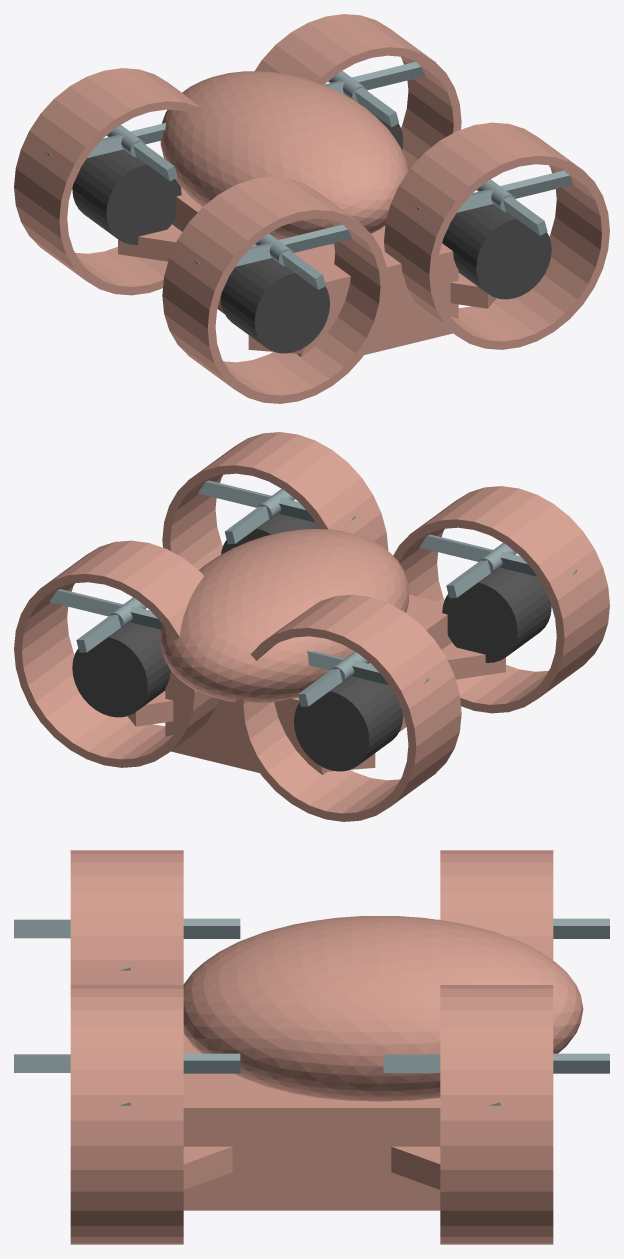
File: Mobula 6.glb
3 renders of one model, top to bottom at view 1: azimuth 30°, elevation 25°; view 2: azimuth 150°, elevation 25°; view 3: azimuth 270°, elevation 25°, orthographic. The views are drawn at different scales.
Parts seen in each view (by area): view 1: canopy, duct_0, duct_2, duct_3, duct_1, frame_body, motor_2, motor_0, motor_3, prop_2, prop_0, prop_1 (+3 smaller); view 2: canopy, duct_3, duct_1, duct_2, duct_0, motor_3, motor_2, motor_1, frame_body, prop_2, prop_0, prop_1 (+4 smaller); view 3: canopy, duct_0, duct_1, frame_body, duct_2, duct_3, prop_2, prop_0, prop_1, arm_0, arm_1, prop_3.
Part boxes in pixels (<box>): canopy: <box>160,71,408,244</box>; duct_0: <box>384,122,609,349</box>; duct_2: <box>162,176,388,403</box>; duct_3: <box>14,68,203,295</box>; duct_1: <box>255,14,461,170</box>; frame_body: <box>172,187,458,356</box>; motor_2: <box>220,258,329,353</box>; motor_0: <box>442,204,551,299</box>; motor_3: <box>72,149,181,244</box>; prop_2: <box>194,224,351,289</box>; prop_0: <box>415,170,573,235</box>; prop_1: <box>324,62,425,127</box>; canopy: <box>160,529,409,702</box>; duct_3: <box>235,594,461,821</box>; duct_1: <box>14,540,218,767</box>; duct_2: <box>393,486,609,713</box>; duct_0: <box>162,432,388,569</box>; motor_3: <box>294,676,403,771</box>; motor_2: <box>442,567,551,662</box>; motor_1: <box>72,622,170,717</box>; frame_body: <box>165,594,451,774</box>; prop_2: <box>419,534,576,598</box>; prop_0: <box>198,480,355,544</box>; prop_1: <box>49,589,162,652</box>; canopy: <box>183,916,583,1101</box>; duct_0: <box>70,985,183,1244</box>; duct_1: <box>440,985,553,1244</box>; frame_body: <box>183,1034,440,1210</box>; duct_2: <box>70,850,183,984</box>; duct_3: <box>440,850,553,959</box>; prop_2: <box>14,918,240,970</box>; prop_0: <box>14,1053,240,1105</box>; prop_1: <box>383,1053,609,1105</box>; arm_0: <box>183,1146,232,1189</box>; arm_1: <box>391,1146,440,1189</box>; prop_3: <box>438,918,609,938</box>.
Size of the model in its own units: 0.1024 by 0.046 by 0.1054.
